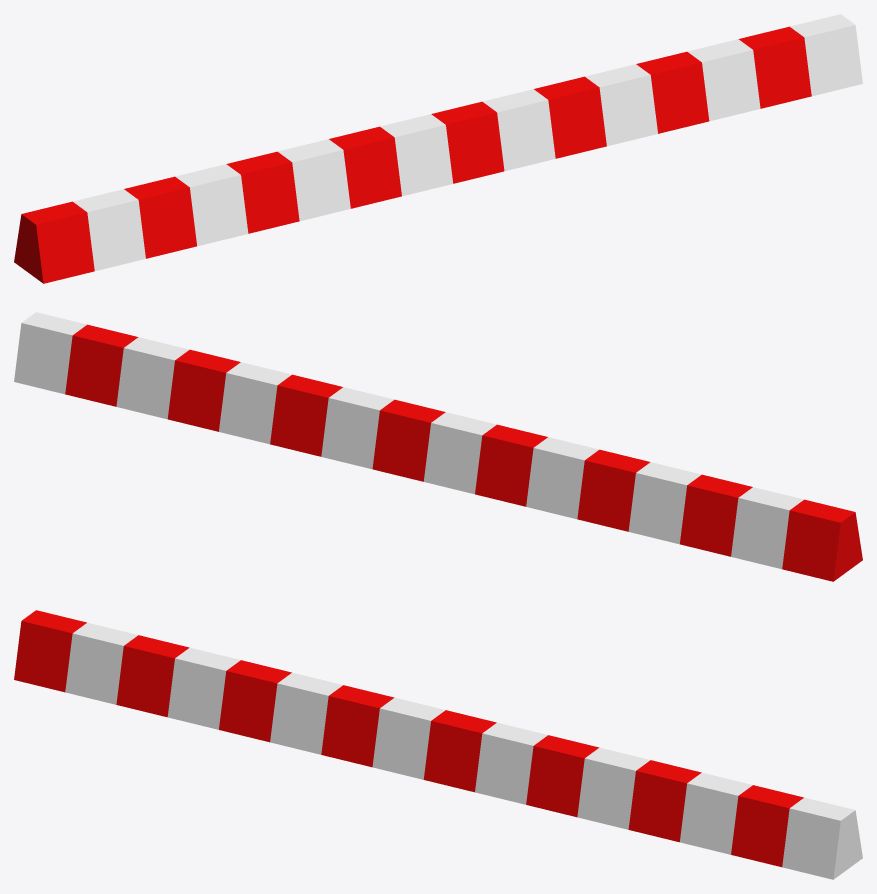
Rendered from Barrier16RedWhite.fbx.
3 renders of one model, top to bottom at view 1: azimuth 30°, elevation 25°; view 2: azimuth 150°, elevation 25°; view 3: azimuth 330°, elevation 25°, orthographic.
Visible parts, largest first — view 1: Barrier16RedWhite; view 2: Barrier16RedWhite; view 3: Barrier16RedWhite.
Part boxes in pixels (box(x1,y1,x2,y2)): Barrier16RedWhite: box(14, 14, 862, 283); Barrier16RedWhite: box(14, 312, 862, 581); Barrier16RedWhite: box(14, 610, 862, 879).
Bounding box in the file's own units: 32 × 2 × 2.
